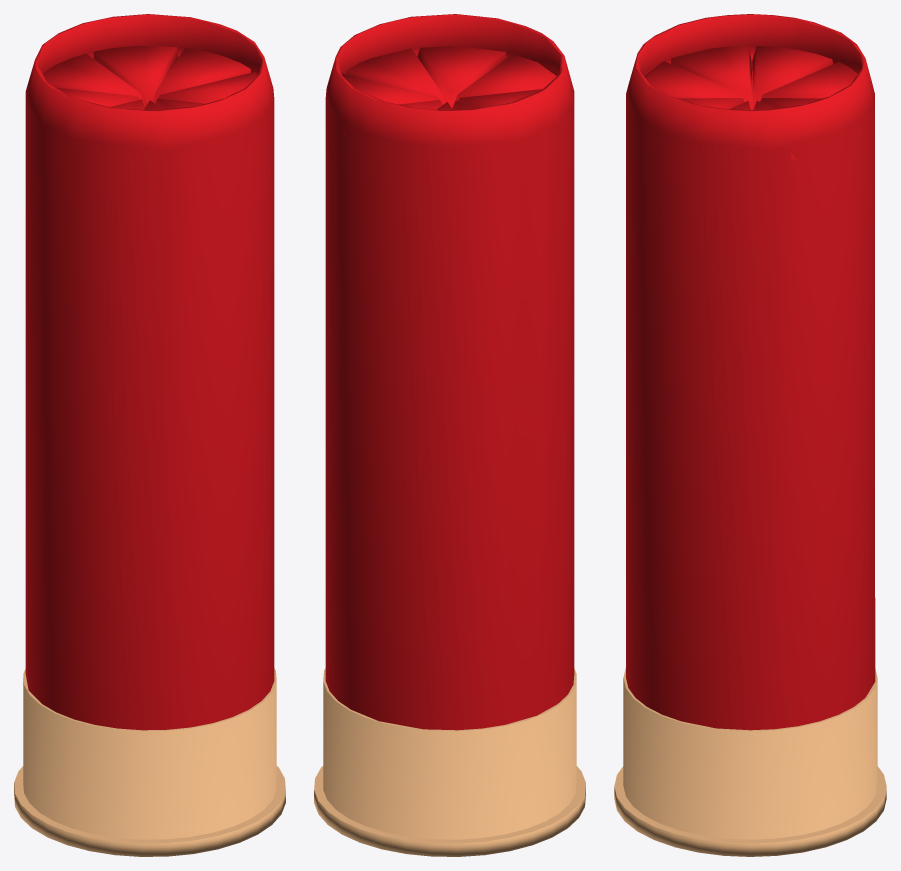
3 renders of one model, left to right at view 1: azimuth 30°, elevation 25°; view 2: azimuth 150°, elevation 25°; view 3: azimuth 270°, elevation 25°, orthographic.
Visible parts, largest first — view 1: Circle; view 2: Circle; view 3: Circle.
Boxes of the visible parts, left/top/right/bottom form: Circle: left=14, top=14, right=285, bottom=856; Circle: left=314, top=14, right=585, bottom=856; Circle: left=614, top=14, right=886, bottom=856.
Bounding box in the file's own units: 741 × 2212 × 741.
